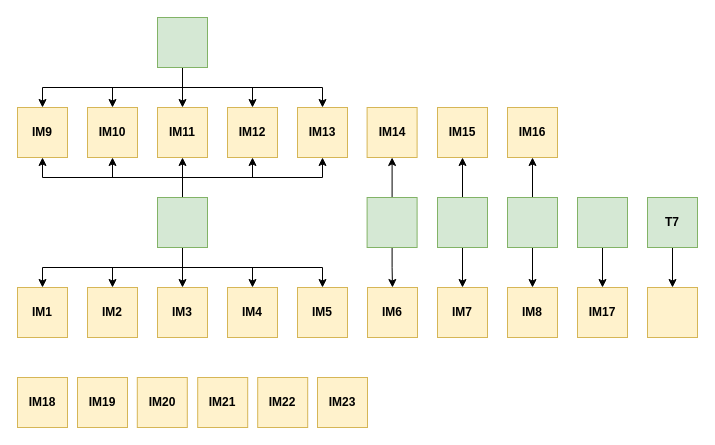
Some shapes in this 715 by 445 pixel diagram are drawn without their labels. The shapes that lost their labels are listed below. From the top down, each one's centre as x and y in pixels, then its label:
At (x=182, y=42): "T2".
At (x=182, y=222): "T1".
At (x=391, y=222): "T3".
At (x=462, y=222): "T4".
At (x=532, y=222): "T5".
At (x=602, y=222): "T6".
At (x=672, y=312): "IM24".
